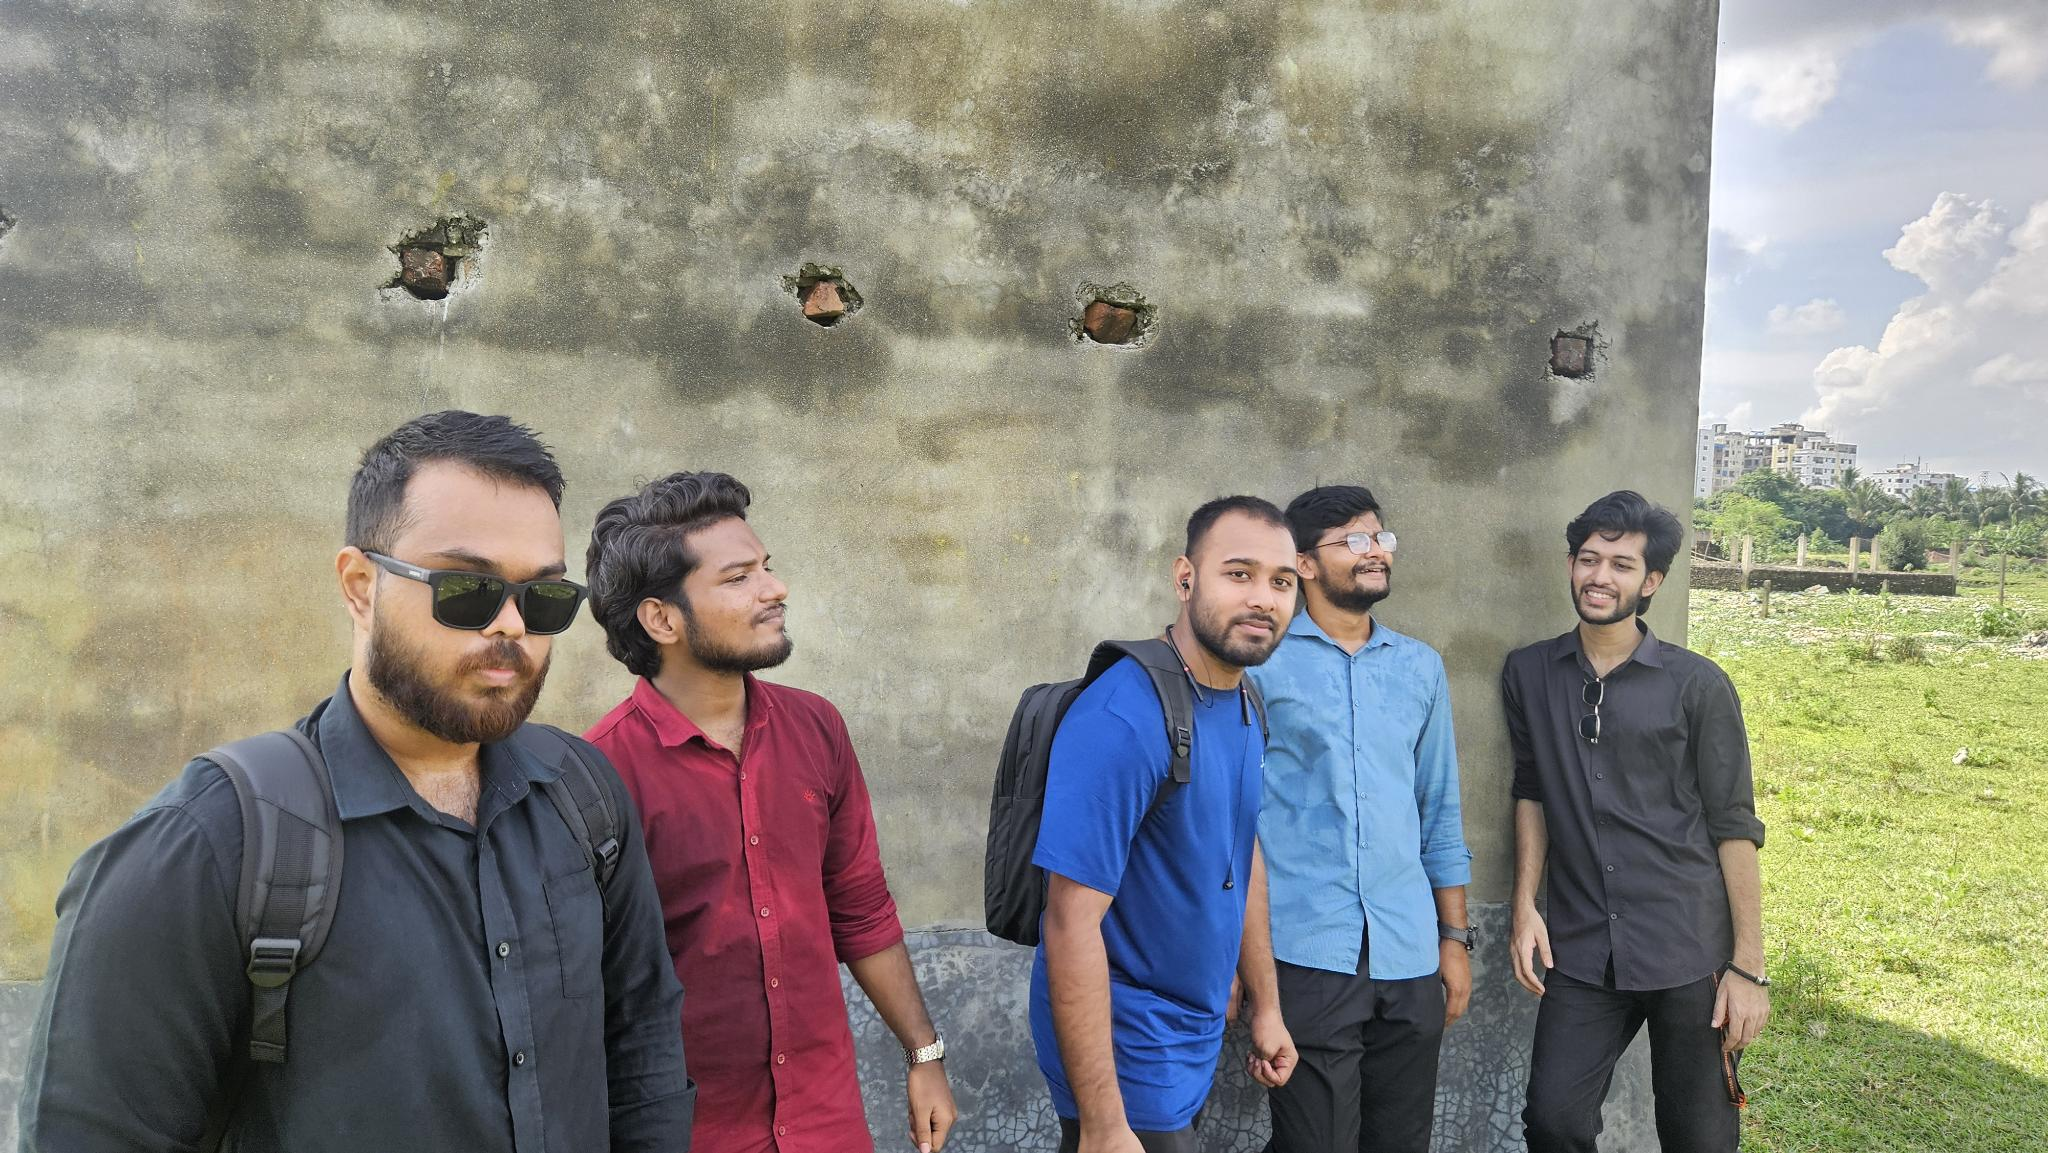nonSmoker: (11, 409, 698, 1153), (567, 467, 961, 1153), (986, 494, 1303, 1153), (1501, 489, 1768, 1153), (1265, 487, 1477, 1153)
